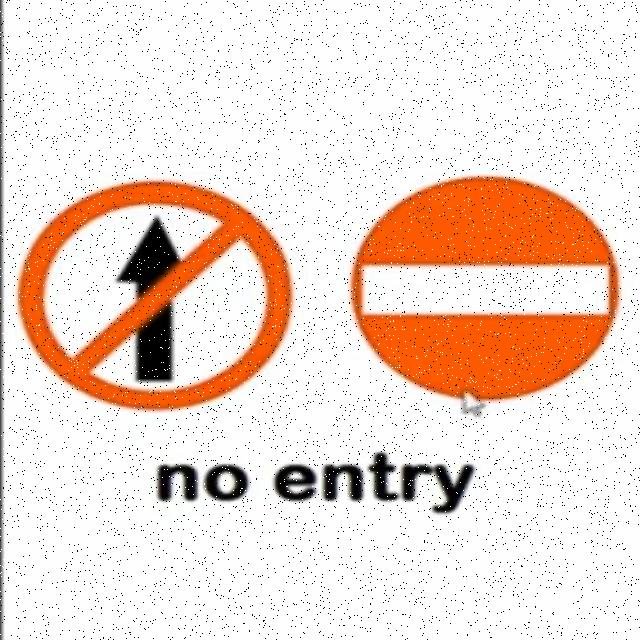No_entry: (348, 174, 624, 398)
straight ahead prohibited: (20, 179, 296, 408)
